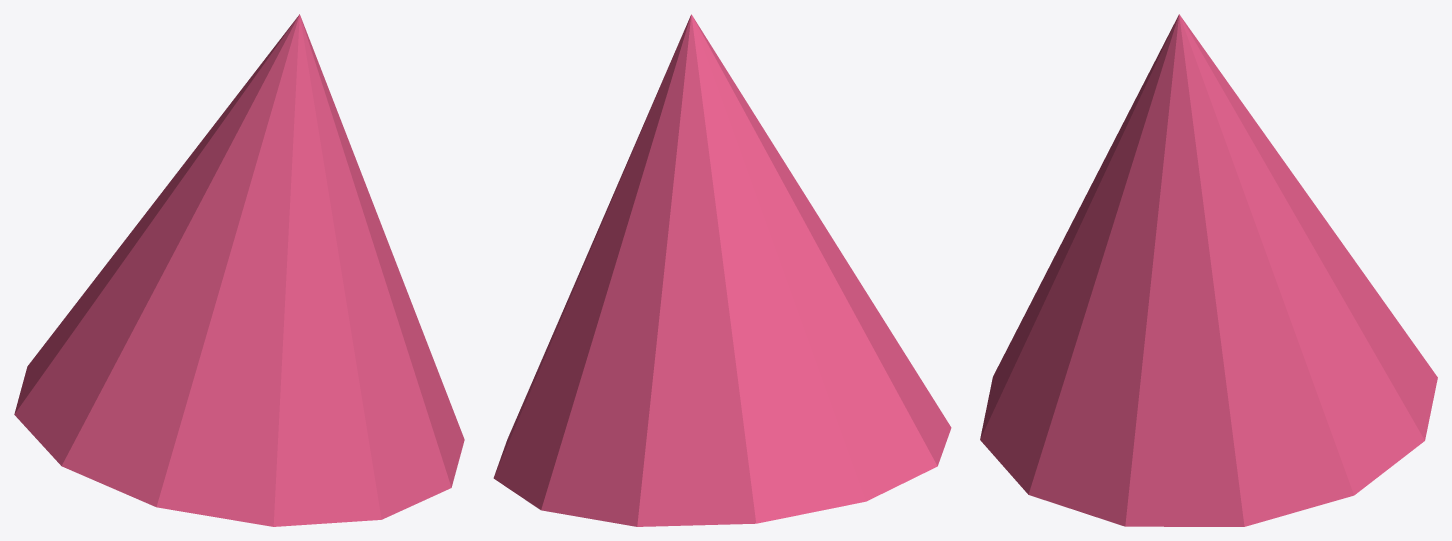
The picture shows the model from 3 angles, left to right: view 1: azimuth 30°, elevation 25°; view 2: azimuth 150°, elevation 25°; view 3: azimuth 270°, elevation 25°; orthographic projection.
Visible parts, largest first — view 1: mesh_1248001743; view 2: mesh_1248001743; view 3: mesh_1248001743.
Part boxes in pixels (x1=…): mesh_1248001743: x1=14, y1=14, x2=464, y2=526; mesh_1248001743: x1=493, y1=14, x2=951, y2=526; mesh_1248001743: x1=980, y1=14, x2=1437, y2=526.
Size of the model in its own units: 40.29 by 43.31 by 40.43.
